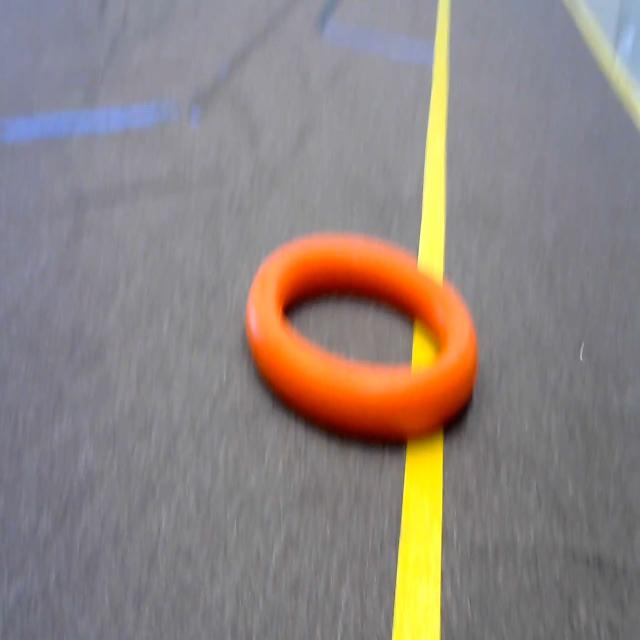note: (240, 201, 500, 461)
